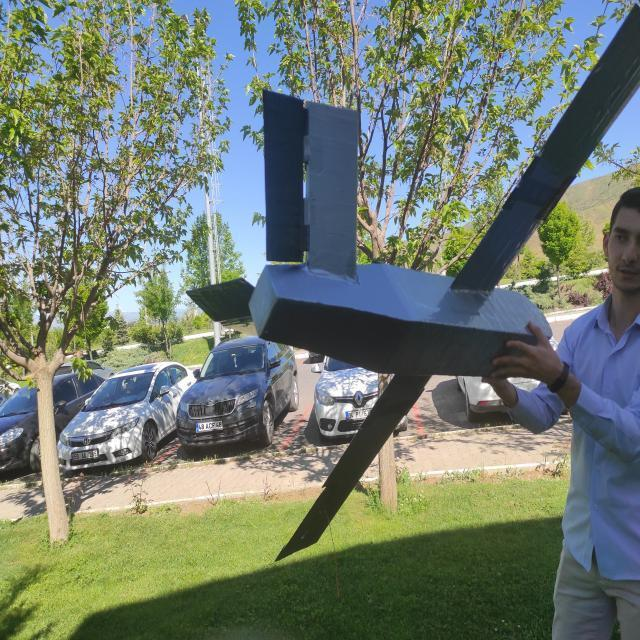UAV: (162, 58, 614, 574)
